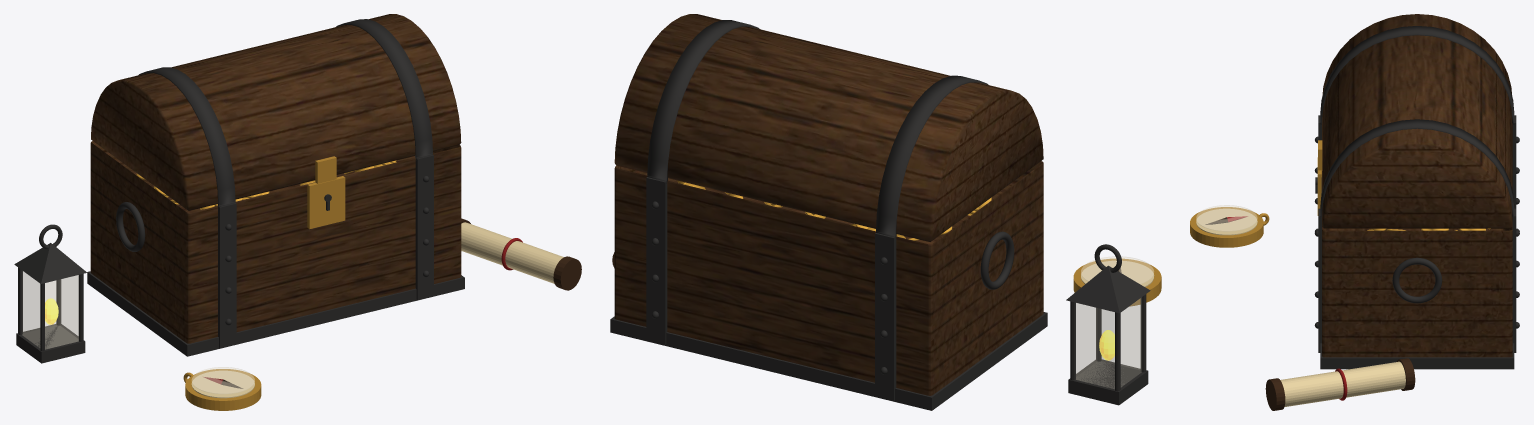
Rendered from chest.glb.
3 renders of one model, left to right at view 1: azimuth 30°, elevation 25°; view 2: azimuth 150°, elevation 25°; view 3: azimuth 270°, elevation 25°, orthographic. The views are drawn at different scales.
Visible parts, largest first — view 1: ChestBody, ChestLid, ChestIron, Lantern, LidIron, Scroll, Compass, LockPlate, Handles, Hasp; view 2: ChestBody, ChestLid, ChestIron, Lantern, LidIron, Compass, Handles, Coins; view 3: ChestLid, ChestBody, LidIron, Scroll, ChestIron, Compass, Handles, Studs.
Part boxes in pixels (x1,y1,x2,y2): ChestBody: (90,141,461,343); ChestLid: (91,14,461,210); ChestIron: (87,155,464,356); Lantern: (14,224,87,363); LidIron: (138,19,432,206); Scroll: (461,218,581,290); Compass: (183,367,261,410); LockPlate: (307,176,345,229); Handles: (116,202,145,251); Hasp: (315,156,336,183); ChestBody: (614,161,1043,395); ChestLid: (614,14,1043,241); ChestIron: (610,177,1047,410); Lantern: (1066,244,1150,405); LidIron: (647,20,988,237); Compass: (1073,256,1161,306); Handles: (980,231,1014,289); Coins: (677,180,991,240); ChestLid: (1322,14,1512,228); ChestBody: (1322,123,1512,357); LidIron: (1320,26,1514,216); Scroll: (1265,358,1415,410); ChestIron: (1318,115,1516,369); Compass: (1190,205,1269,247); Handles: (1392,257,1442,303); Studs: (1314,136,1519,328).
Size of the model in its own units: 1.79 by 0.824 by 1.07.
12 materials, 2 textured.
